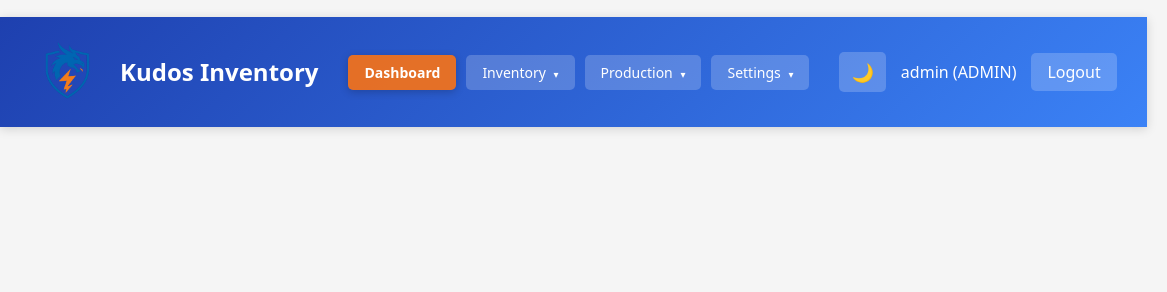
Test case: Navbar › closes an open menu on Escape
Step 1. Click the button "Production ▾" → {"x": 643, "y": 72}, box [585,54,702,90]
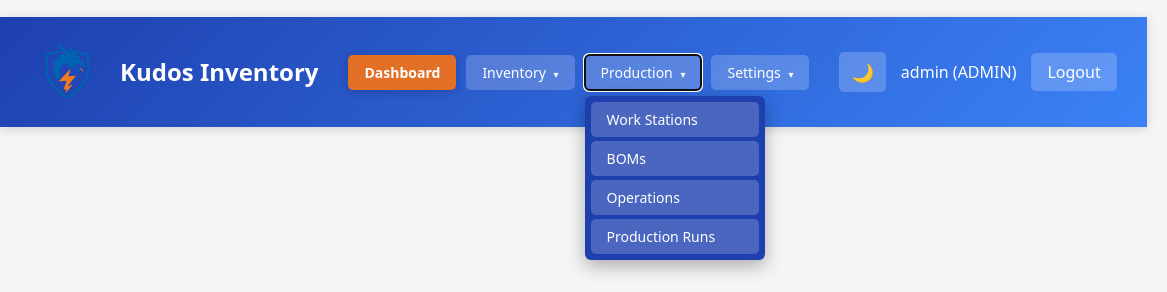
expect the menu is shown: met, box [585,96,765,260]
Step 2. Press Escape
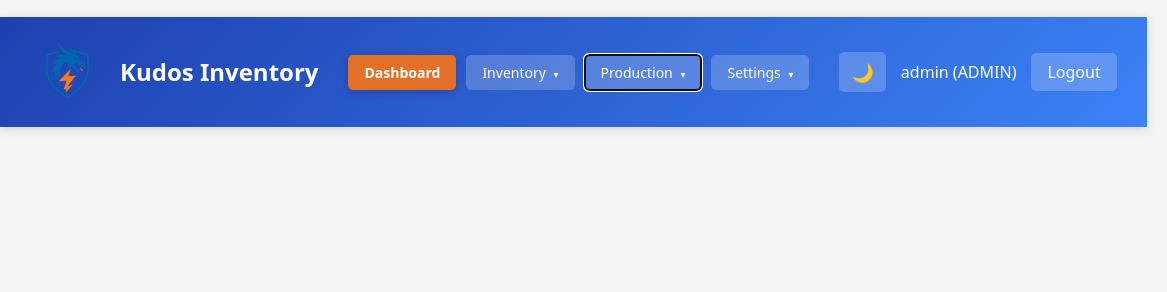
expect the menu is gone: met
